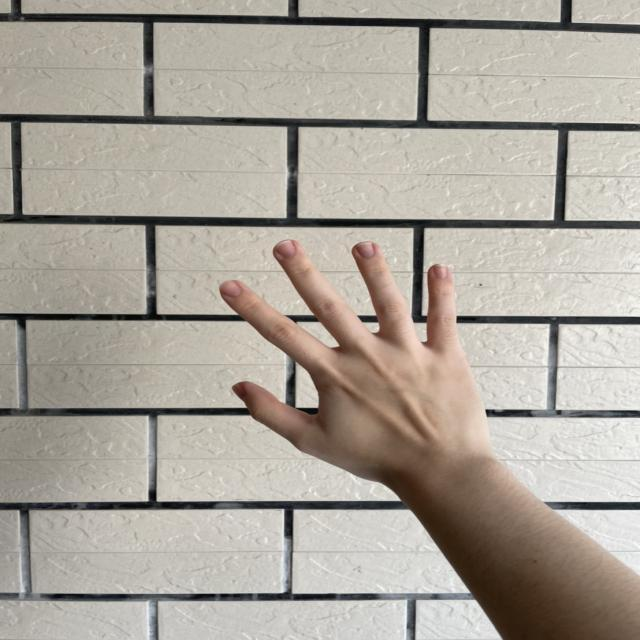no-gloves: (219, 237, 487, 473)
